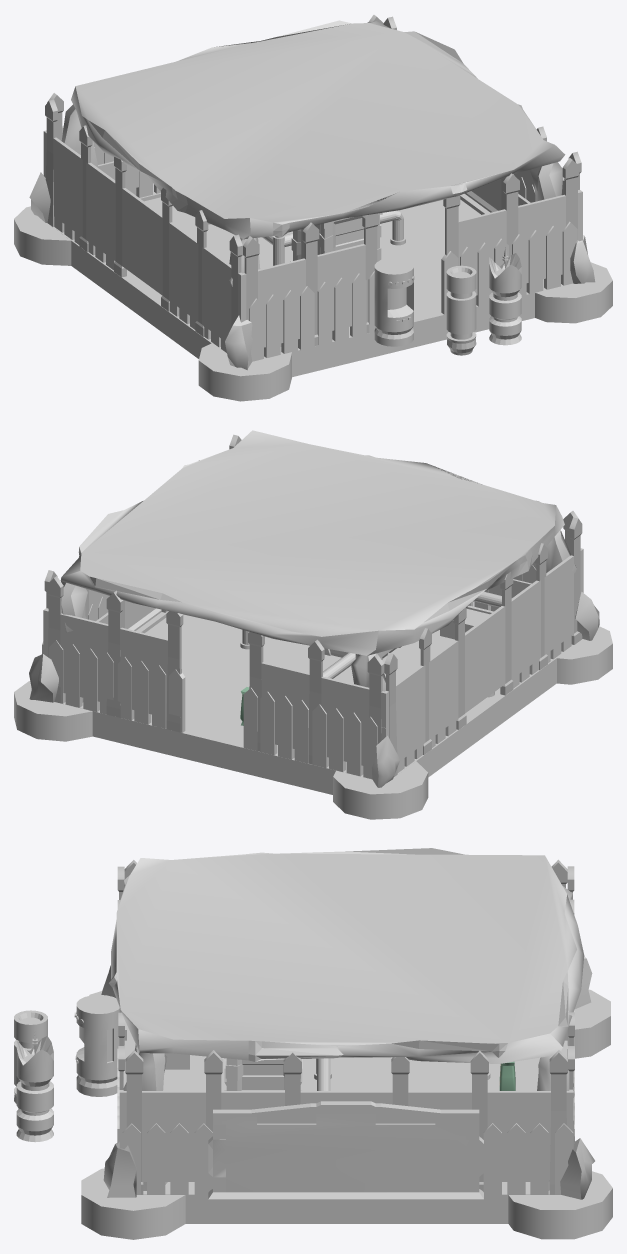
Rendered from ramranch(1).fbx.
The picture shows the model from 3 angles, top to bottom: view 1: azimuth 30°, elevation 25°; view 2: azimuth 150°, elevation 25°; view 3: azimuth 270°, elevation 25°; orthographic projection. The views are drawn at different scales.
Parts seen in each view (by area): view 1: sTALACTITE, Base_empty, Enclos_cloture_inside, aGRICULTURE_CLOTURE, Enclos_cloture, Planter9000, Crystal purifier, Mine, Chrono, cHEST, irrigation; view 2: sTALACTITE, Base_empty, Enclos_cloture_inside, aGRICULTURE_CLOTURE, Enclos_cloture, Mine, irrigation; view 3: sTALACTITE, infoPannel, Base_empty, Enclos_cloture_inside, aGRICULTURE_CLOTURE, Enclos_cloture, Planter9000, Crystal purifier, Mine, info_inside, cHEST, Chrono (+1 smaller).
Boxes of the visible parts, left/top/right/bottom form: sTALACTITE: left=61, top=20, right=565, bottom=286; Base_empty: left=14, top=191, right=612, bottom=401; Enclos_cloture_inside: left=43, top=126, right=582, bottom=347; aGRICULTURE_CLOTURE: left=54, top=147, right=577, bottom=361; Enclos_cloture: left=45, top=15, right=581, bottom=345; Planter9000: left=374, top=258, right=413, bottom=346; Crystal purifier: left=489, top=253, right=521, bottom=345; Mine: left=29, top=172, right=595, bottom=370; Chrono: left=446, top=265, right=476, bottom=355; cHEST: left=290, top=213, right=382, bottom=261; irrigation: left=208, top=210, right=405, bottom=265; sTALACTITE: left=60, top=430, right=576, bottom=702; Base_empty: left=14, top=611, right=612, bottom=819; Enclos_cloture_inside: left=43, top=548, right=583, bottom=765; aGRICULTURE_CLOTURE: left=42, top=565, right=571, bottom=778; Enclos_cloture: left=44, top=434, right=582, bottom=776; Mine: left=29, top=592, right=599, bottom=787; irrigation: left=240, top=629, right=355, bottom=678; sTALACTITE: left=109, top=848, right=584, bottom=1190; infoPannel: left=208, top=1101, right=483, bottom=1205; Base_empty: left=79, top=989, right=612, bottom=1239; Enclos_cloture_inside: left=119, top=1089, right=573, bottom=1181; aGRICULTURE_CLOTURE: left=117, top=1010, right=574, bottom=1195; Enclos_cloture: left=117, top=859, right=574, bottom=1194; Planter9000: left=76, top=995, right=119, bottom=1096; Crystal purifier: left=16, top=1036, right=53, bottom=1142; Mine: left=101, top=956, right=594, bottom=1199; info_inside: left=213, top=1113, right=479, bottom=1192; cHEST: left=224, top=1058, right=302, bottom=1090; Chrono: left=14, top=1010, right=47, bottom=1108.
Size of the model in its own units: 459 by 177 by 515.
